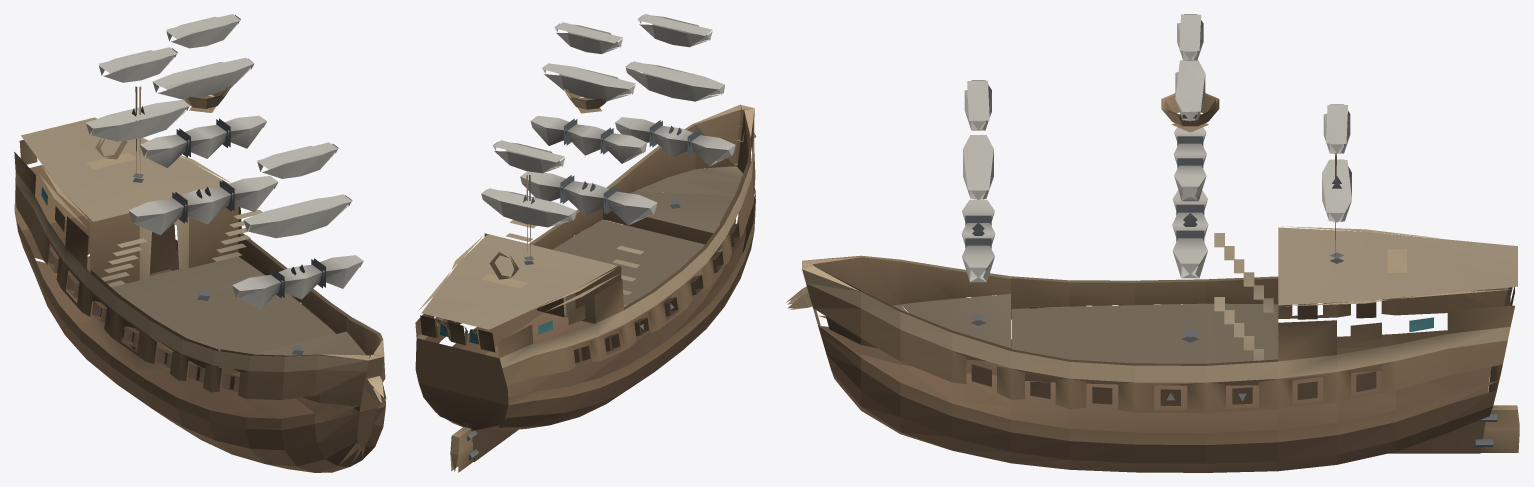
Rendered from galleon.lod.glb.
The picture shows the model from 3 angles, left to right: view 1: azimuth 30°, elevation 25°; view 2: azimuth 150°, elevation 25°; view 3: azimuth 270°, elevation 25°; orthographic projection. The views are drawn at different scales.
Parts seen in each view (by area): view 1: galleon; view 2: galleon; view 3: galleon.
Boxes of the visible parts, <box> form: galleon: <box>14,14,386,472</box>; galleon: <box>415,14,756,472</box>; galleon: <box>786,14,1519,472</box>.
Size of the model in its own units: 6.8 by 14.31 by 22.54.
